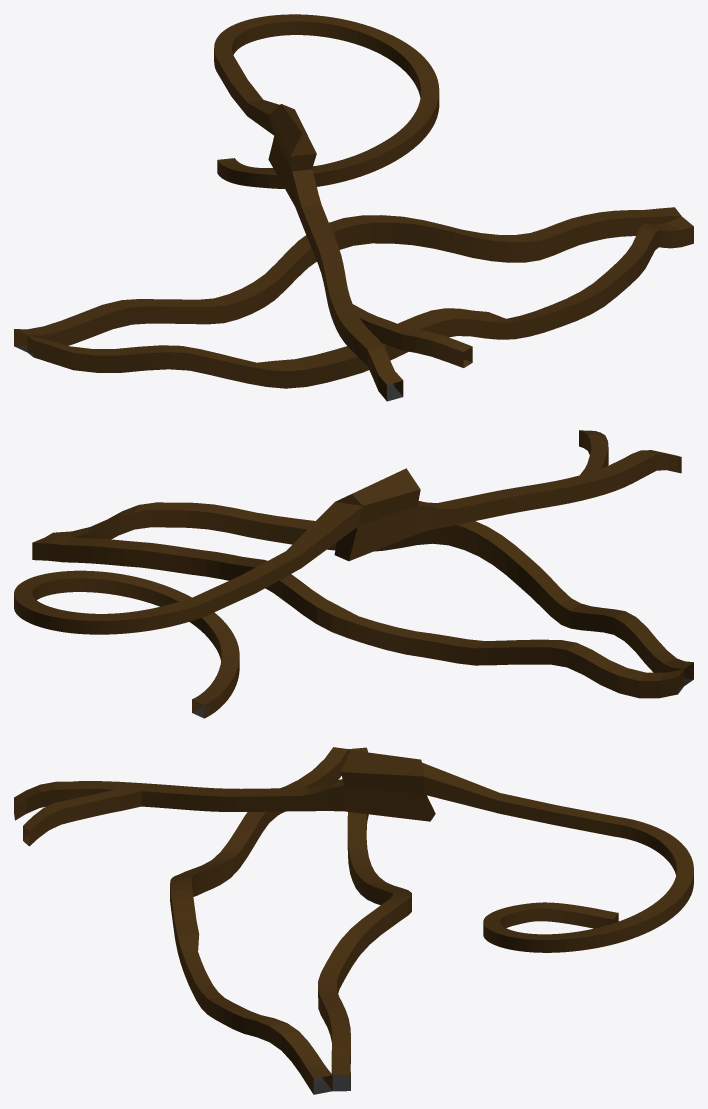
Rendered from ColiderplanerV5.fbx.
The picture shows the model from 3 angles, top to bottom: view 1: azimuth 30°, elevation 25°; view 2: azimuth 150°, elevation 25°; view 3: azimuth 270°, elevation 25°; orthographic projection. The views are drawn at different scales.
Visible parts, largest first — view 1: CollissionPath2; view 2: CollissionPath2; view 3: CollissionPath2.
Boxes of the visible parts, x1,y1,x2,y2 form: CollissionPath2: (14, 14, 693, 401); CollissionPath2: (14, 430, 693, 718); CollissionPath2: (14, 747, 693, 1094).
Bounding box in the file's own units: 201 × 54.8 × 193.
